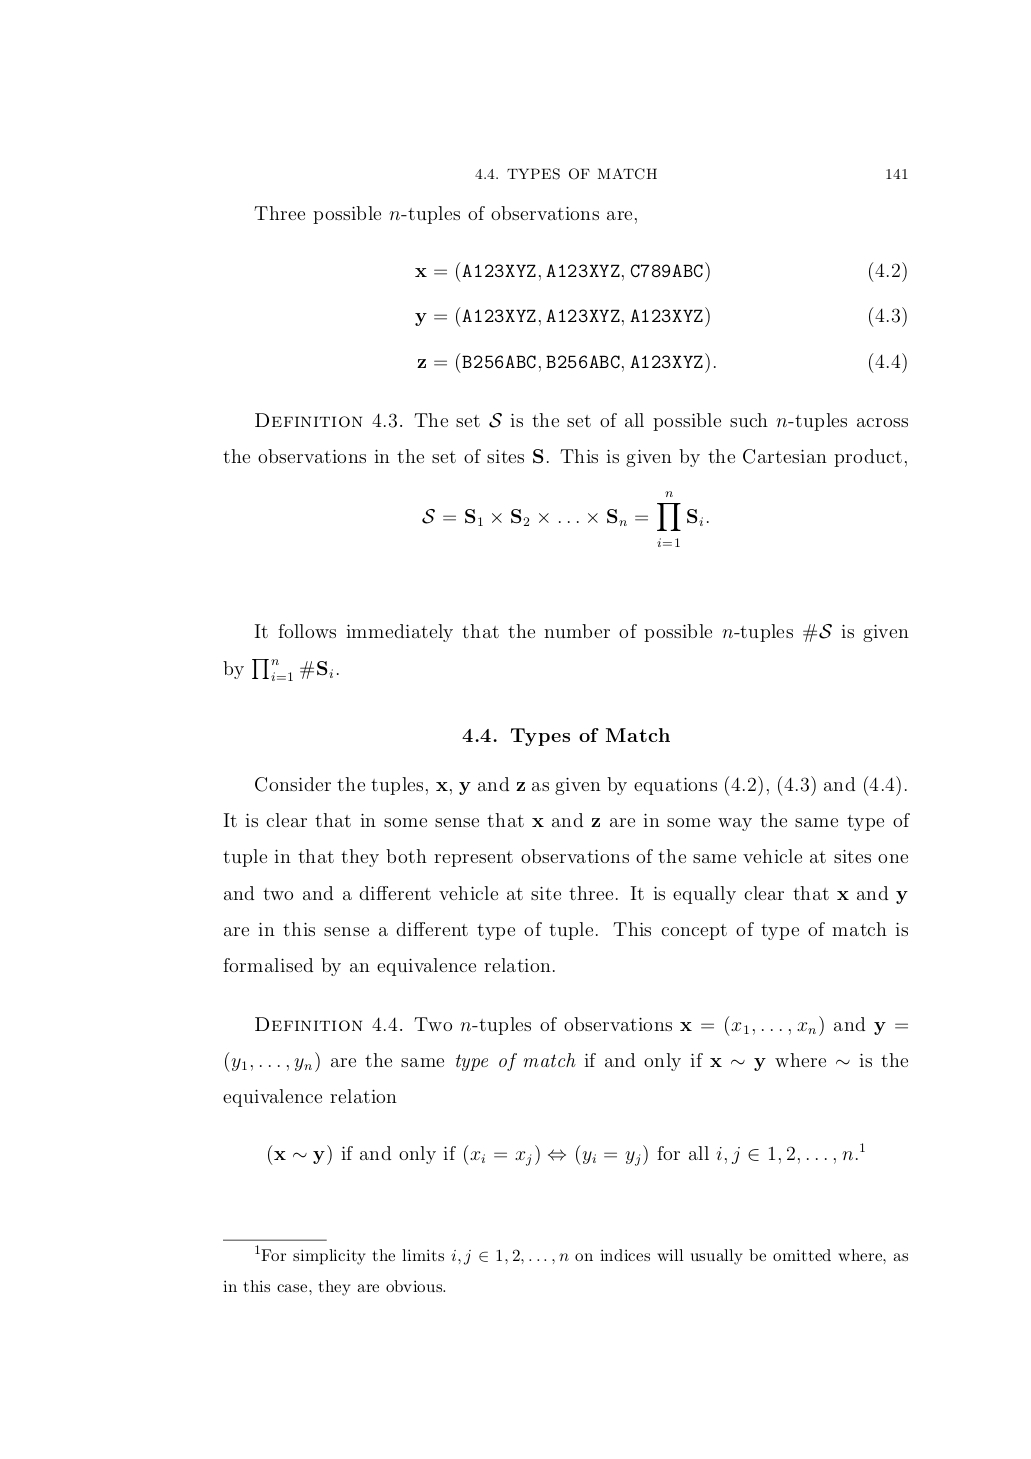figure: (223, 1238, 326, 1241)
formula: (422, 491, 709, 545), (268, 1142, 864, 1166), (415, 261, 906, 282), (415, 306, 906, 327), (417, 352, 906, 373), (223, 659, 338, 680)
